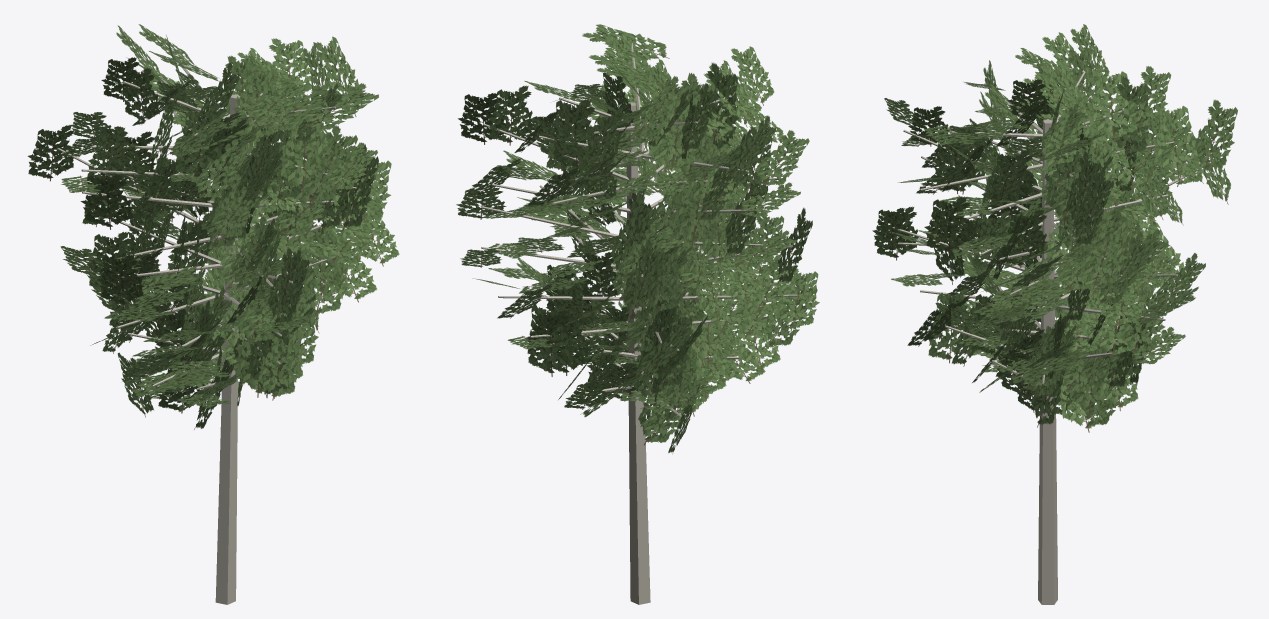
Rendered from birch_near.glb.
3 views of the same model, side by side, from view 1: azimuth 30°, elevation 25°; view 2: azimuth 150°, elevation 25°; view 3: azimuth 270°, elevation 25° (orthographic). The views are drawn at different scales.
Parts seen in each view (by area): view 1: birch_near; view 2: birch_near; view 3: birch_near.
Part boxes in pixels (x1,y1,x2,y2): birch_near: (27, 24, 399, 604); birch_near: (456, 24, 819, 604); birch_near: (872, 24, 1237, 604).
Bounding box in the file's own units: 6.24 × 9.5 × 6.27.
Materials: 2 (1 with a texture image).
